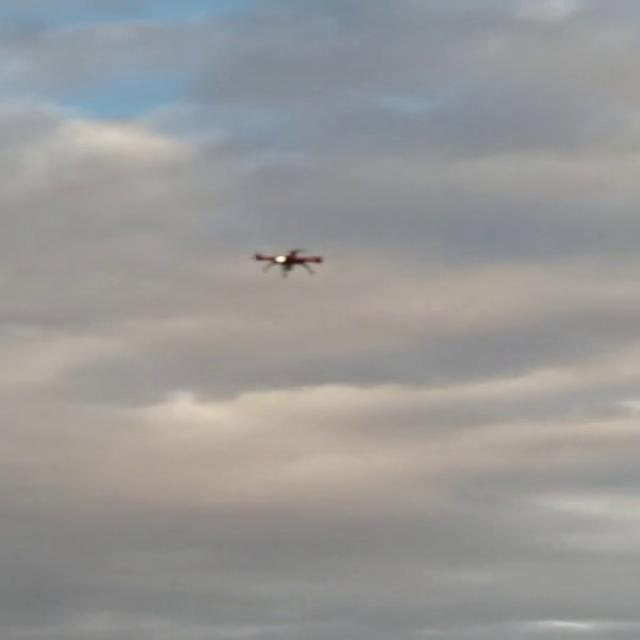drone: (248, 246, 330, 279)
